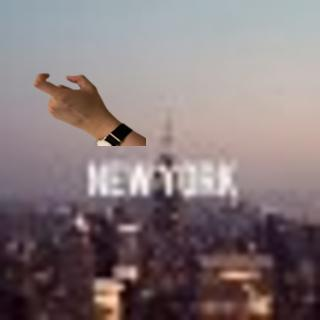HATE: (30, 67, 108, 132)
